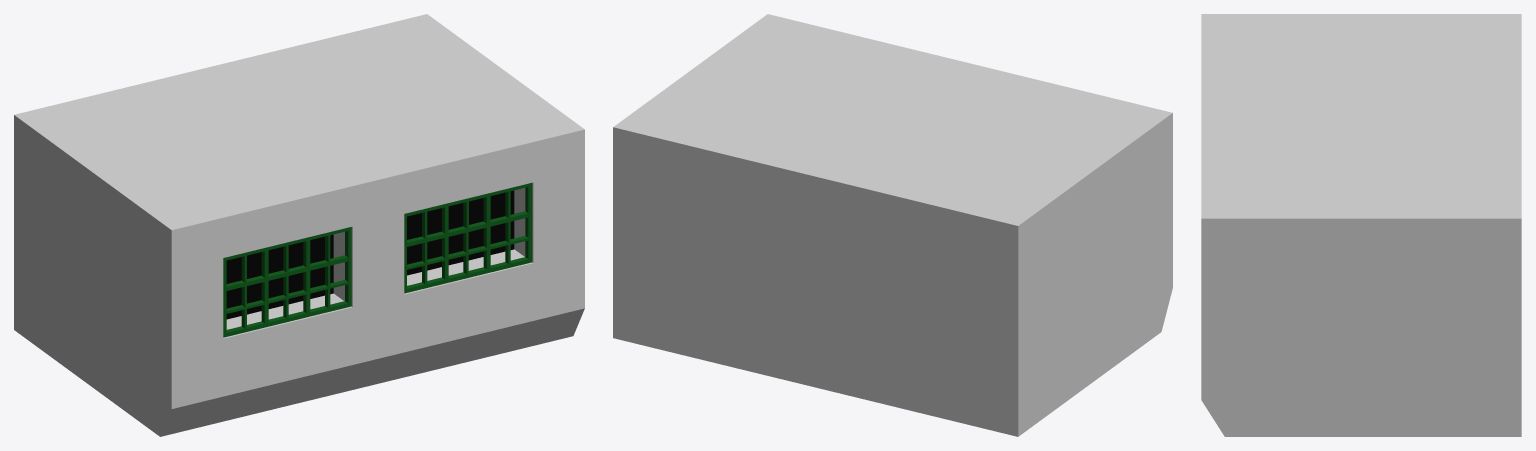
Rendered from apartment_001.glb.
The picture shows the model from 3 angles, left to right: view 1: azimuth 30°, elevation 25°; view 2: azimuth 150°, elevation 25°; view 3: azimuth 270°, elevation 25°; orthographic projection. The views are drawn at different scales.
Visible parts, largest first — view 1: Main_Unit, Window_Frame_Left, Window_Frame_Right, Interior_Plane_Right, Interior_Plane_Left; view 2: Main_Unit; view 3: Main_Unit.
Part boxes in pixels (x1,y1,x2,y2): Main_Unit: (14, 14, 584, 436); Window_Frame_Left: (223, 227, 351, 337); Window_Frame_Right: (404, 183, 532, 293); Interior_Plane_Right: (407, 190, 514, 275); Interior_Plane_Left: (226, 234, 333, 319); Main_Unit: (613, 14, 1172, 436); Main_Unit: (1201, 14, 1521, 436).
Bounding box in the file's own units: 18.21 × 9.06 × 12.05.
